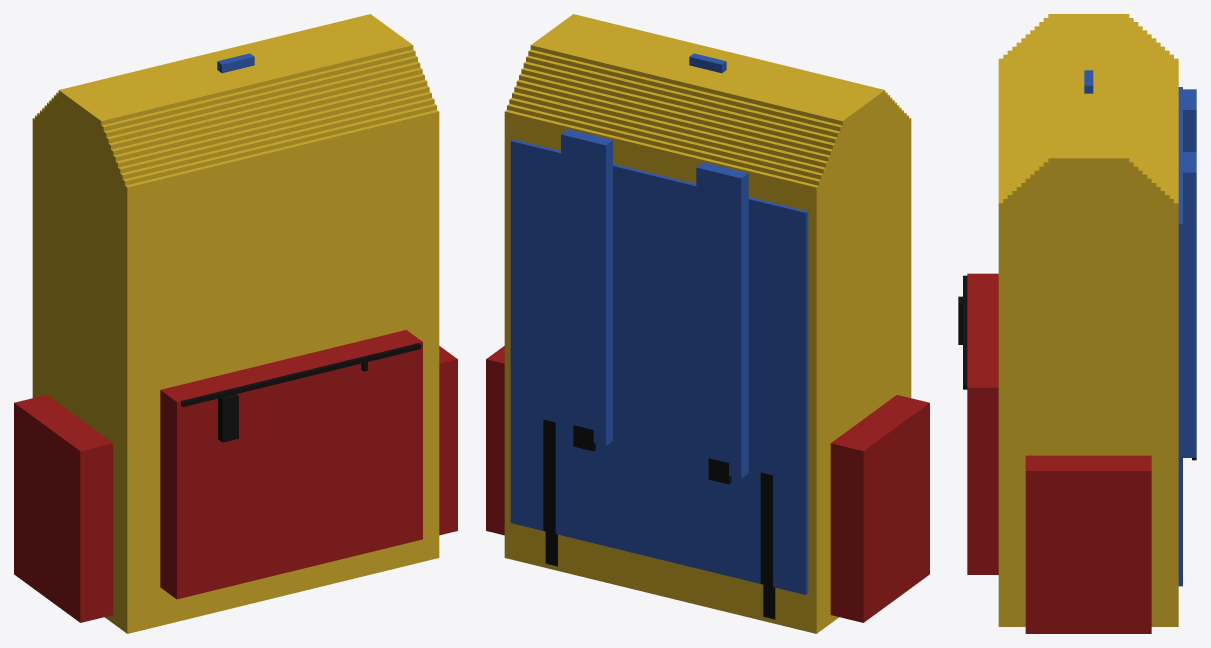
File: backpack_giant.glb
The picture shows the model from 3 angles, left to right: view 1: azimuth 30°, elevation 25°; view 2: azimuth 150°, elevation 25°; view 3: azimuth 270°, elevation 25°; orthographic projection. The views are drawn at different scales.
Parts seen in each view (by area): view 1: backpack_giant:compound; view 2: backpack_giant:compound; view 3: backpack_giant:compound.
Part boxes in pixels (box(x1,y1,x2,y2)): backpack_giant:compound: box(14, 14, 457, 633); backpack_giant:compound: box(486, 14, 929, 633); backpack_giant:compound: box(958, 14, 1196, 633).
Bounding box in the file's own units: 0.92 × 1.17 × 0.53.
